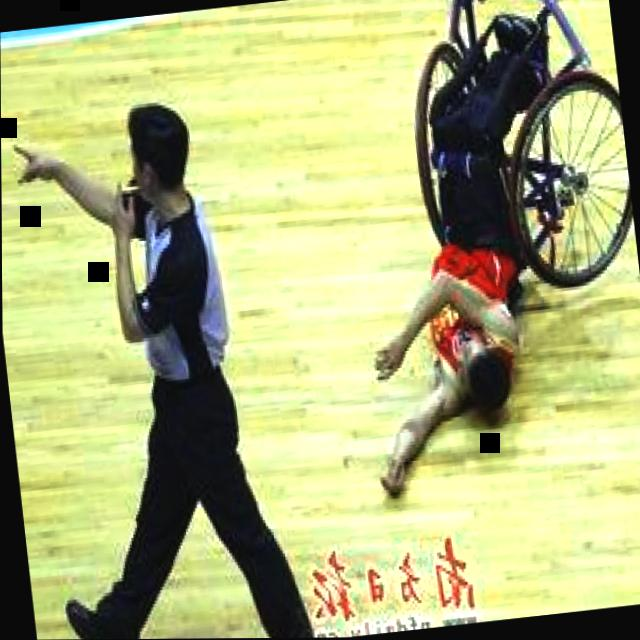Fall-Detected: (325, 10, 596, 511)
